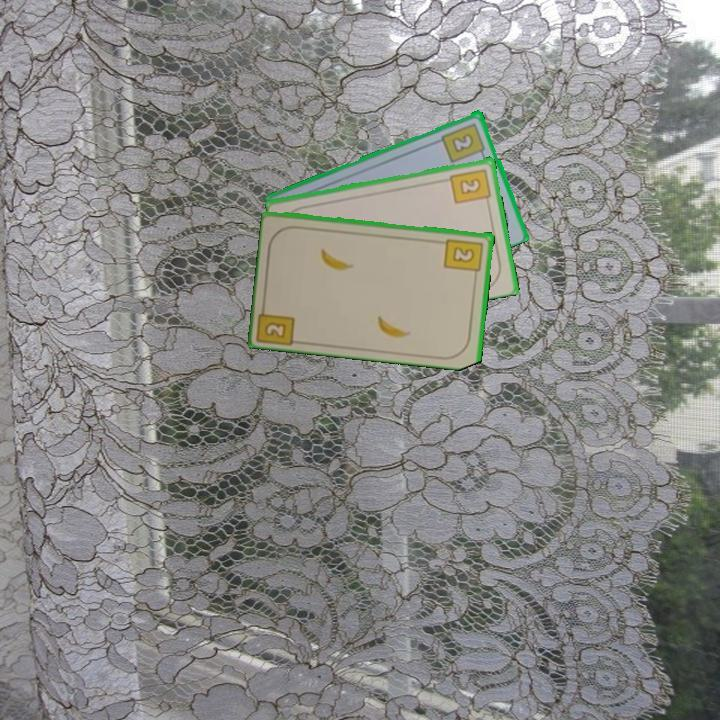2b: (438, 119, 488, 165), (441, 235, 486, 280), (256, 299, 298, 347), (447, 165, 494, 207)
